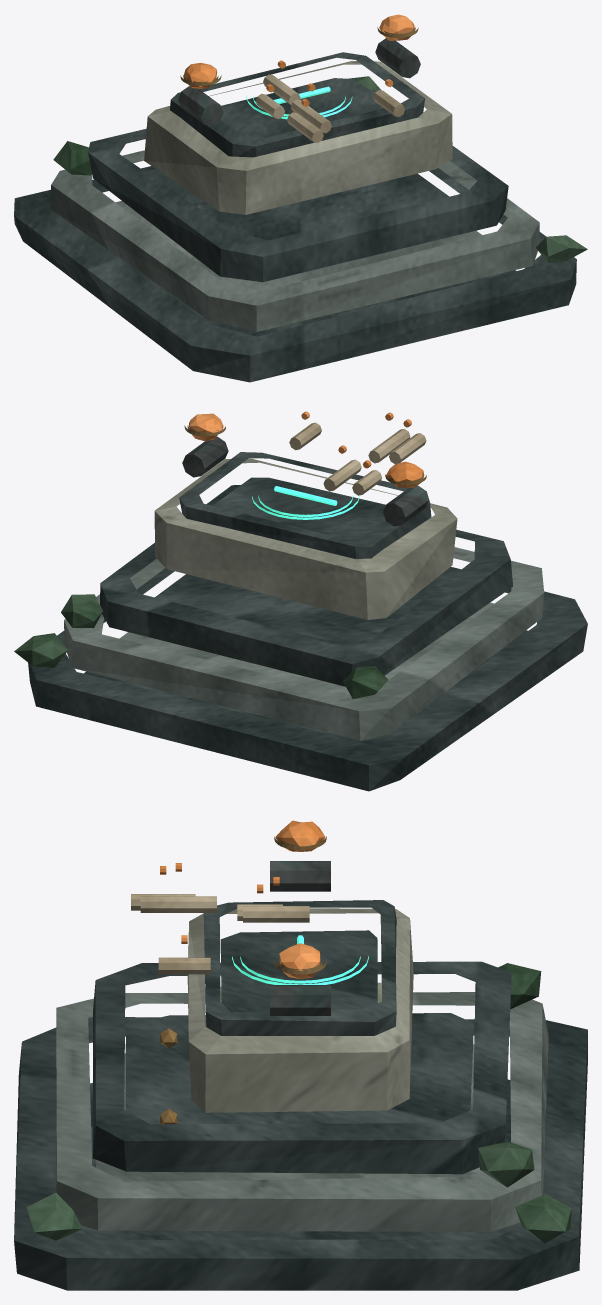
Rendered from 0464_altar_14.glb.
3 renders of one model, top to bottom at view 1: azimuth 30°, elevation 25°; view 2: azimuth 150°, elevation 25°; view 3: azimuth 270°, elevation 25°, orthographic. The views are drawn at different scales.
Parts seen in each view (by area): view 1: stone_dark, stone, stone_light, bone, iron, moss, amber, glow; view 2: stone_dark, stone, stone_light, moss, bone, iron, amber, glow; view 3: stone_dark, stone, stone_light, moss, bone, iron, amber, brass, glow.
Boxes of the visible parts, left/top/right/bottom form: stone_dark: left=14, top=52, right=576, bottom=382; stone: left=50, top=150, right=539, bottom=331; stone_light: left=144, top=61, right=452, bottom=214; bone: left=255, top=74, right=405, bottom=142; iron: left=178, top=38, right=420, bottom=126; moss: left=53, top=76, right=587, bottom=262; amber: left=183, top=14, right=414, bottom=106; glow: left=246, top=86, right=352, bottom=119; stone_dark: left=28, top=452, right=587, bottom=791; stone: left=64, top=547, right=544, bottom=740; stone_light: left=154, top=458, right=457, bottom=619; moss: left=14, top=594, right=387, bottom=699; bone: left=289, top=422, right=426, bottom=495; iron: left=182, top=436, right=428, bottom=526; amber: left=188, top=411, right=424, bottom=487; glow: left=252, top=486, right=359, bottom=519; stone_dark: left=14, top=900, right=587, bottom=1290; stone: left=55, top=992, right=548, bottom=1231; stone_light: left=187, top=908, right=413, bottom=1112; moss: left=26, top=963, right=571, bottom=1243; bone: left=131, top=894, right=309, bottom=974; iron: left=270, top=861, right=330, bottom=1015; amber: left=160, top=820, right=325, bottom=979; brass: left=160, top=836, right=326, bottom=1124; glow: left=232, top=935, right=368, bottom=984.
Size of the model in its own units: 2.24 by 1.27 by 2.26.
Materials: 9 (9 with a texture image).
